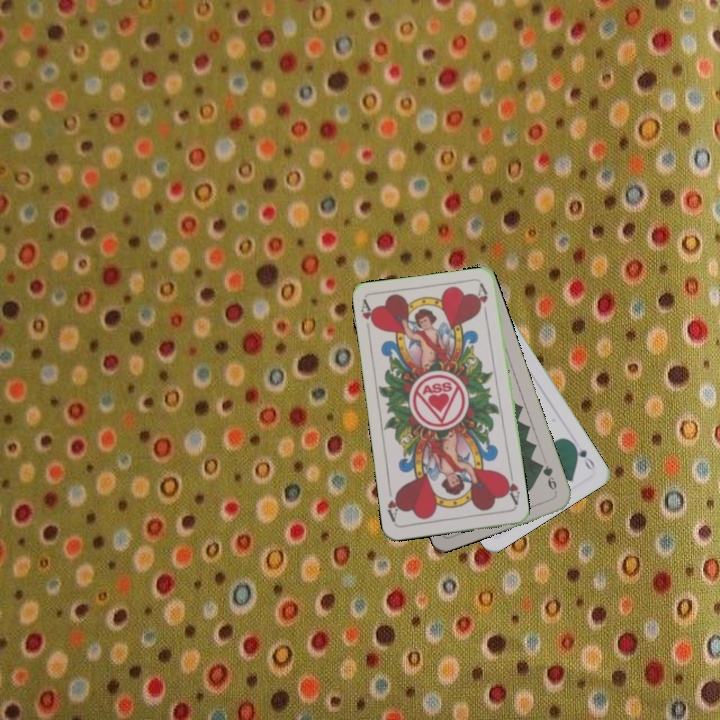G9: (536, 459, 560, 496)
GO: (568, 438, 597, 473)
HA: (357, 297, 379, 338), (500, 468, 522, 507)
